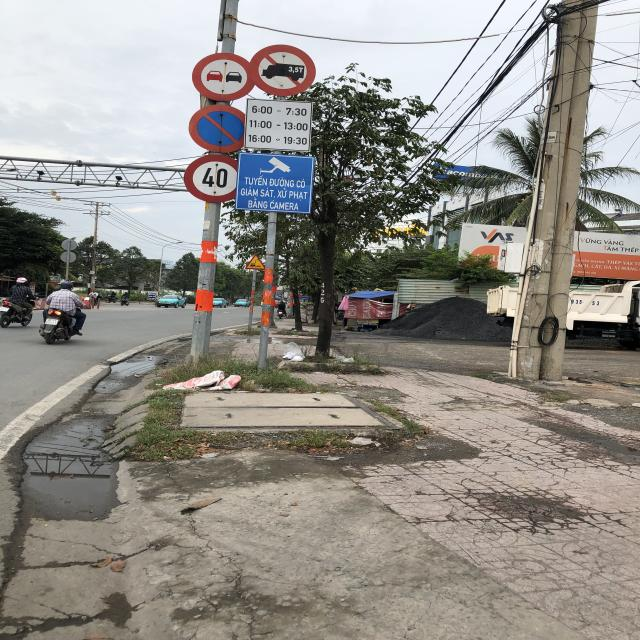Bien bao cam vuot: (192, 52, 256, 103)
